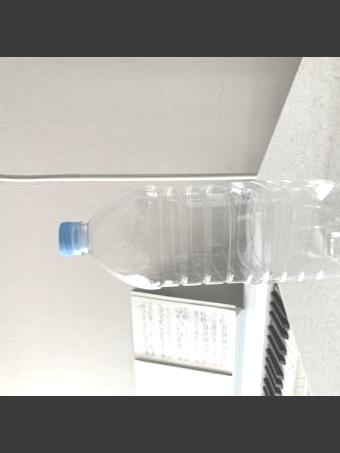bottle: (56, 175, 340, 292)
